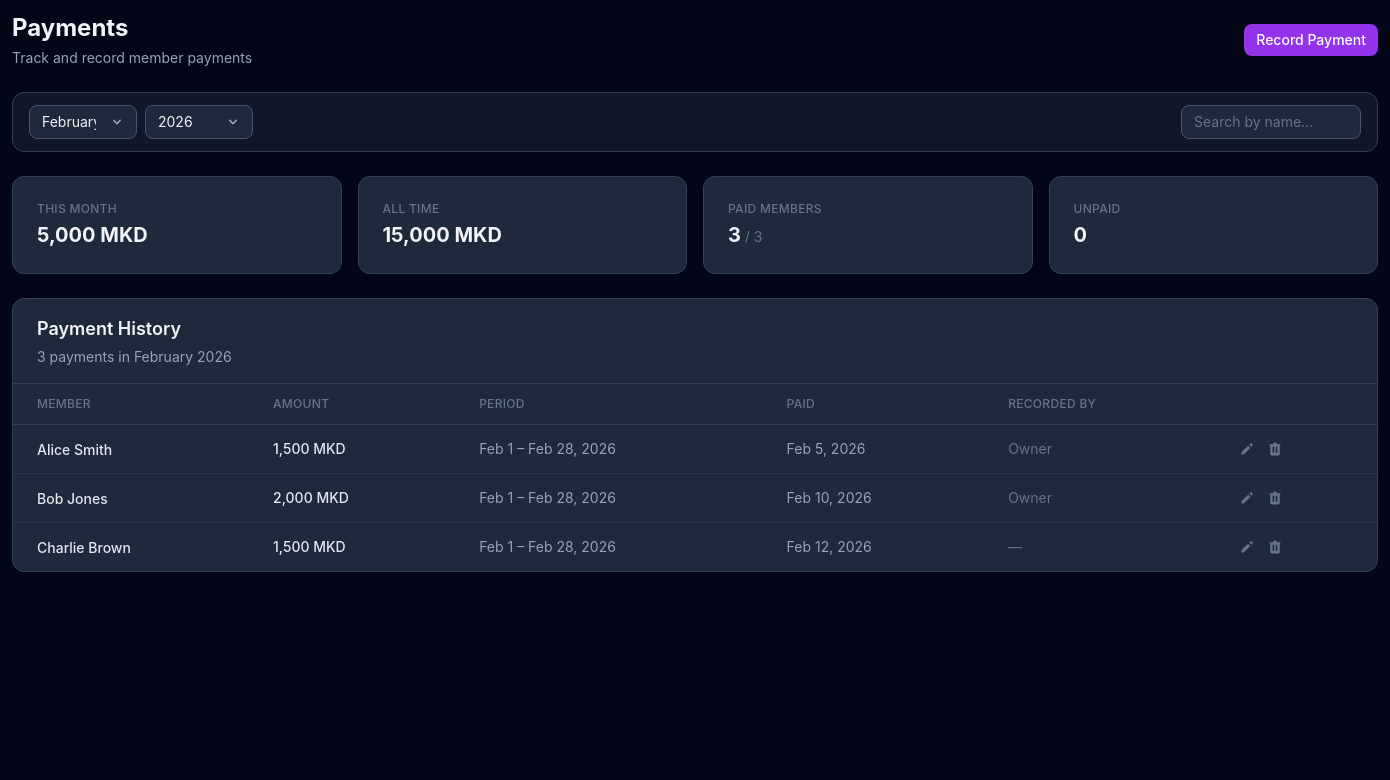
Test: PaymentsClient › hasActiveFilter logic › shows Clear button when only search has text (month/year match current)
This screenshot has width=1390, height=780.
Expected: the text "Clear" is not shown
In the field named "Search payments by member name": (1271, 122) [1181, 105, 1361, 139], type "a"
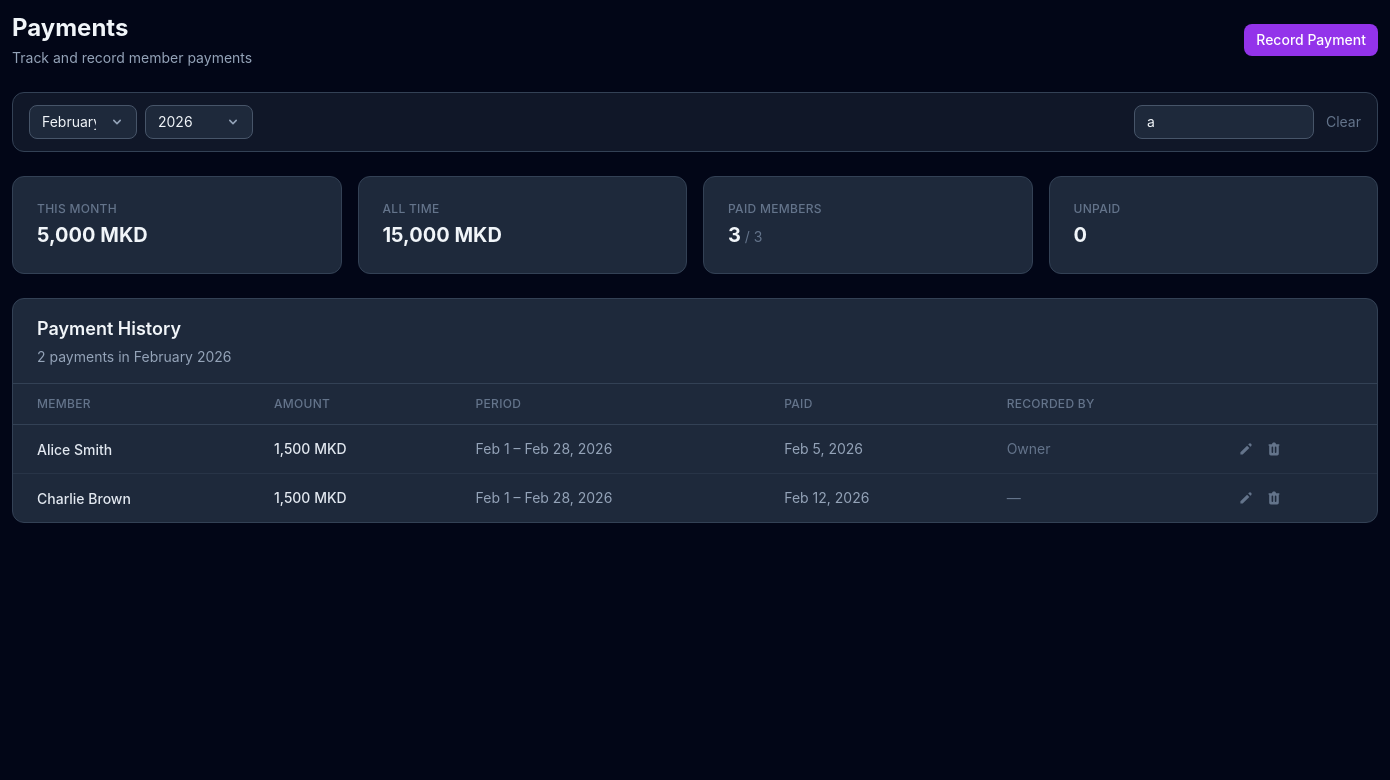
Expected: the button "Clear" is shown, [1326, 112, 1361, 132]
